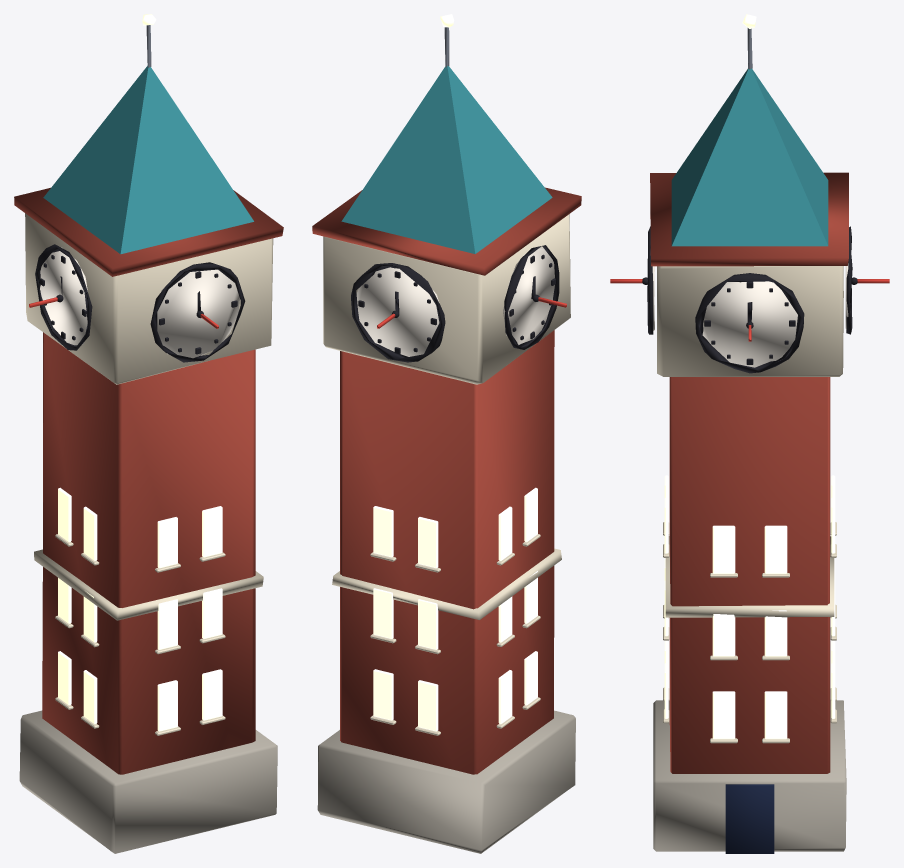
The model's file is clock_tower.glb.
3 renders of one model, left to right at view 1: azimuth 30°, elevation 25°; view 2: azimuth 150°, elevation 25°; view 3: azimuth 270°, elevation 25°, orthographic.
Visible parts, largest first — view 1: clock_tower.006; view 2: clock_tower.006; view 3: clock_tower.006.
Part boxes in pixels (<box>): clock_tower.006: <box>14,14,283,853</box>; clock_tower.006: <box>312,14,581,853</box>; clock_tower.006: <box>647,14,852,853</box>.
Size of the model in its own units: 8.56 by 26.98 by 8.56.
Materials: 1 (1 with a texture image).
